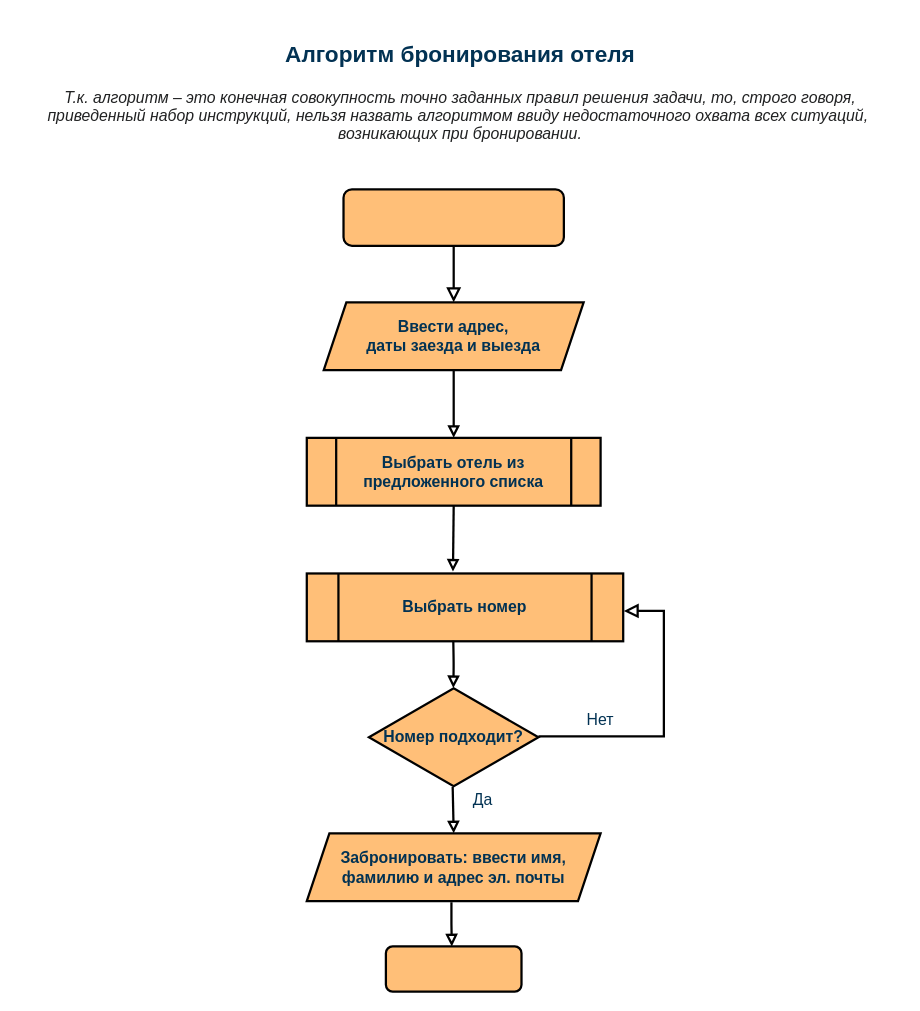
This 920x1011 diagram has some shape labels left out. The shapes that lost their labels are listed below. From the top down, each one's box as (x1, y1, x2, y2) in pixels, then its label:
(342, 188, 564, 246): Бронирование отеля
(384, 945, 522, 992): Бронирование завершено
